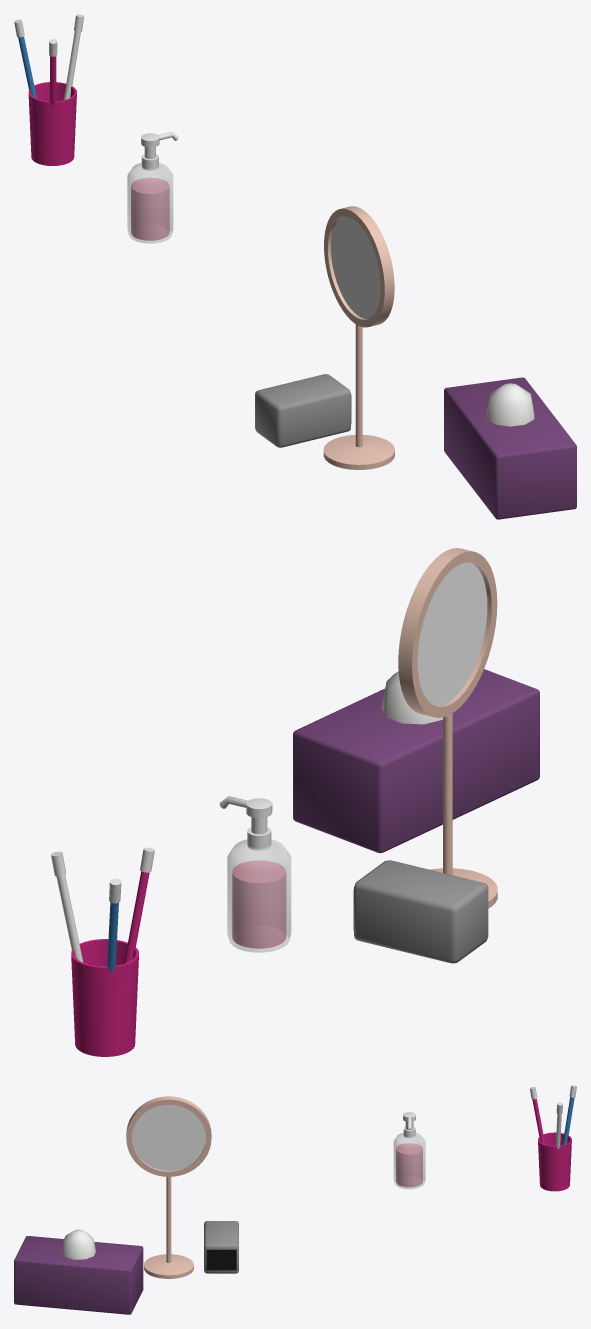
Rendered from recjVpWKXVyFLhg2S.glb.
3 views of the same model, one above another, from view 1: azimuth 30°, elevation 25°; view 2: azimuth 150°, elevation 25°; view 3: azimuth 270°, elevation 25° (orthographic). The views are drawn at different scales.
Visible parts, largest first — view 1: Objets_Vasque_Corps; view 2: Objets_Vasque_Corps; view 3: Objets_Vasque_Corps.
Boxes of the visible parts, x1,y1,x2,y2 form: Objets_Vasque_Corps: [14, 14, 576, 519]; Objets_Vasque_Corps: [51, 548, 539, 1056]; Objets_Vasque_Corps: [14, 1085, 576, 1314].
Size of the model in its own units: 0.3148 by 0.375 by 1.12.
